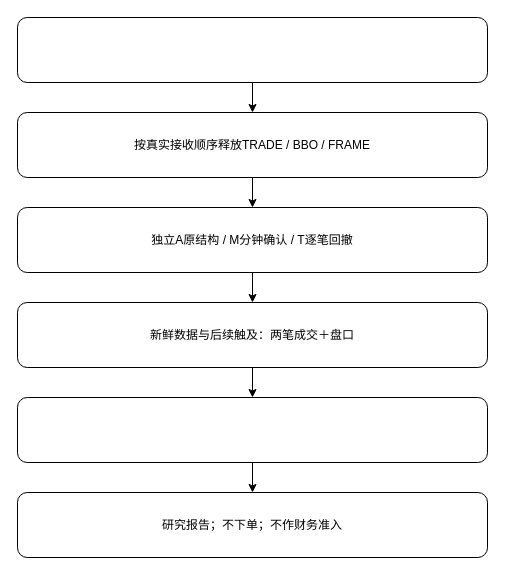
Some shapes in this 505 by 575 pixel diagram are drawn without their labels. Each missing label, with the centre of its shape:
"冻结4916分段：SHA / 字节 / 计数" belongs at pixel 252 49.
"原目标＋假设成本：三档净R筛选" belongs at pixel 252 429.
